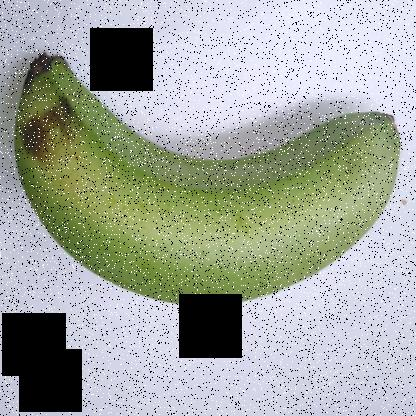freshunripe: (14, 33, 414, 324)
